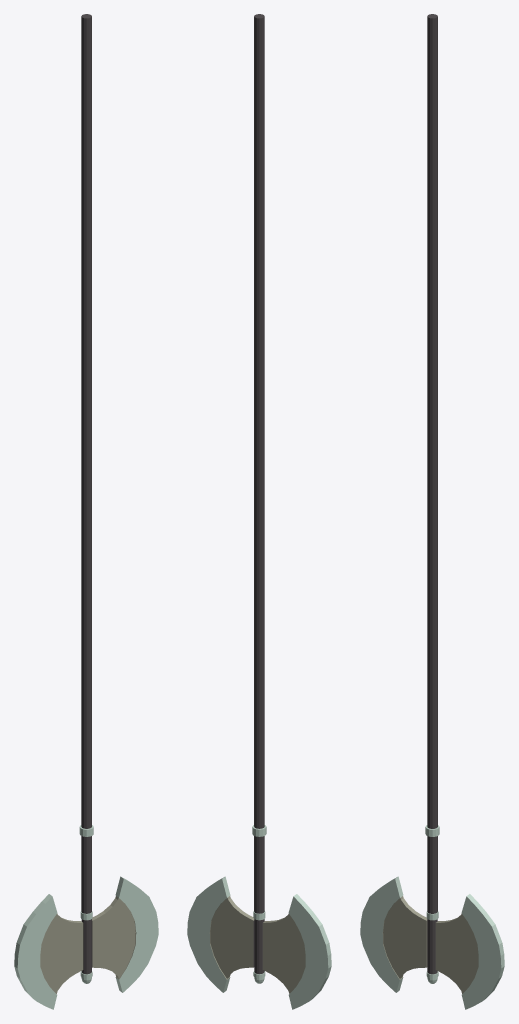
Rendered from Axe.fbx.
3 views of the same model, side by side, from view 1: azimuth 30°, elevation 25°; view 2: azimuth 150°, elevation 25°; view 3: azimuth 330°, elevation 25° (orthographic).
Visible parts, largest first — view 1: Cylinder; view 2: Cylinder; view 3: Cylinder.
Part boxes in pixels (x1,y1,x2,y2): Cylinder: [14, 14, 158, 1009]; Cylinder: [187, 14, 331, 1009]; Cylinder: [360, 14, 504, 1009].
Bounding box in the file's own units: 328 × 2187 × 28.56.
